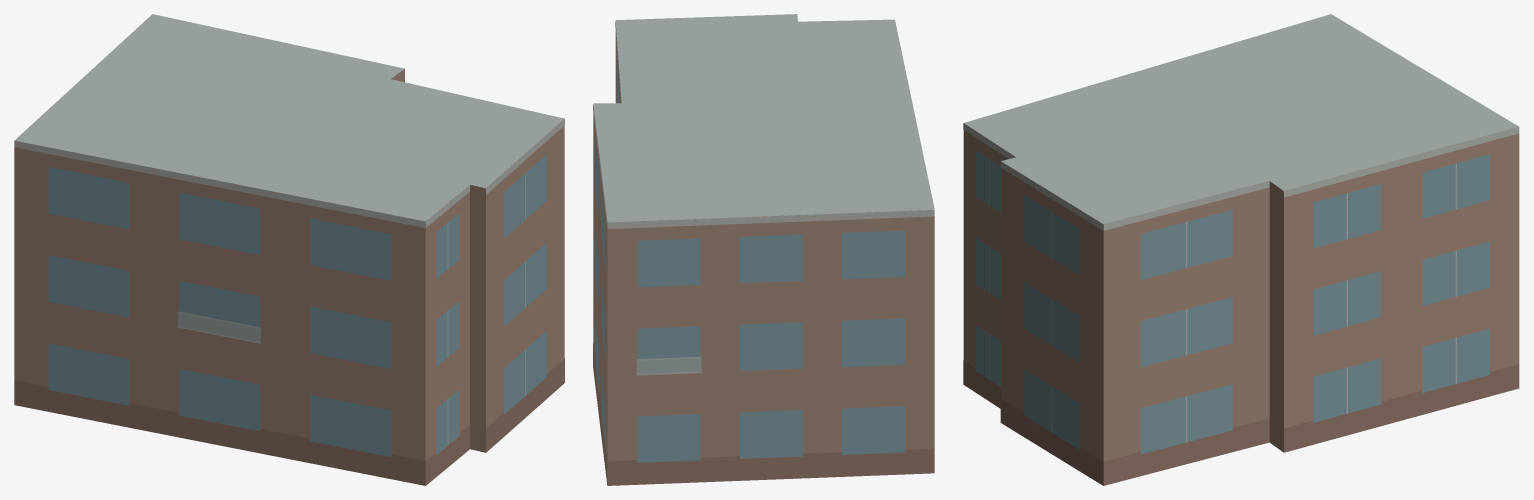
The model's file is survey-upis-32511182.glb.
3 views of the same model, side by side, from view 1: azimuth 30°, elevation 25°; view 2: azimuth 150°, elevation 25°; view 3: azimuth 270°, elevation 25° (orthographic).
Parts seen in each view (by area): view 1: survey-upis-32511182.tmp; view 2: survey-upis-32511182.tmp; view 3: survey-upis-32511182.tmp.
Part boxes in pixels (x1,y1,x2,y2): survey-upis-32511182.tmp: (14, 14, 564, 485); survey-upis-32511182.tmp: (593, 14, 934, 485); survey-upis-32511182.tmp: (963, 14, 1519, 485).
Size of the model in its own units: 16.73 by 9.7 by 18.69.
